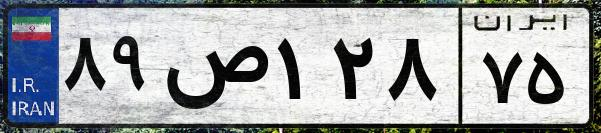1: (270, 28, 330, 110)
2: (330, 28, 385, 110)
5: (525, 38, 570, 115)
7: (475, 38, 525, 113)
8: (385, 28, 445, 110), (57, 26, 110, 100)
9: (110, 28, 158, 98)
ص: (158, 20, 270, 120)
